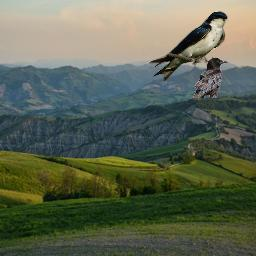Crow: (192, 57, 228, 98)
Swallow: (147, 11, 228, 81)
